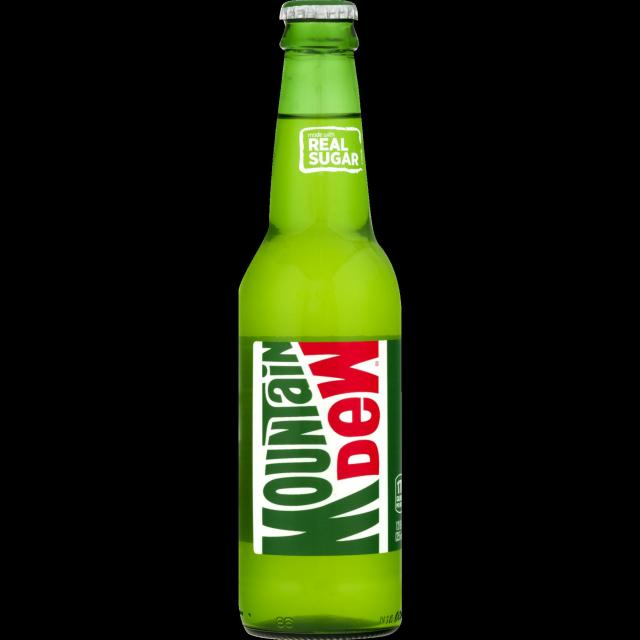non-organic waste: (222, 0, 413, 640)
